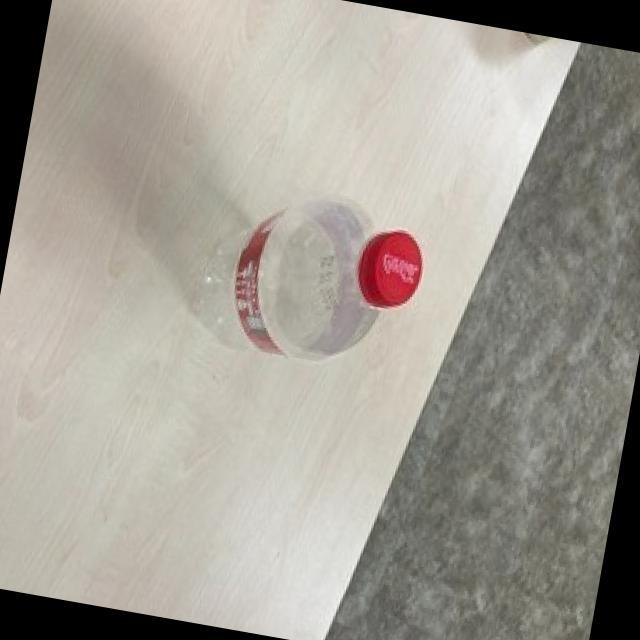good: (160, 165, 438, 382)
